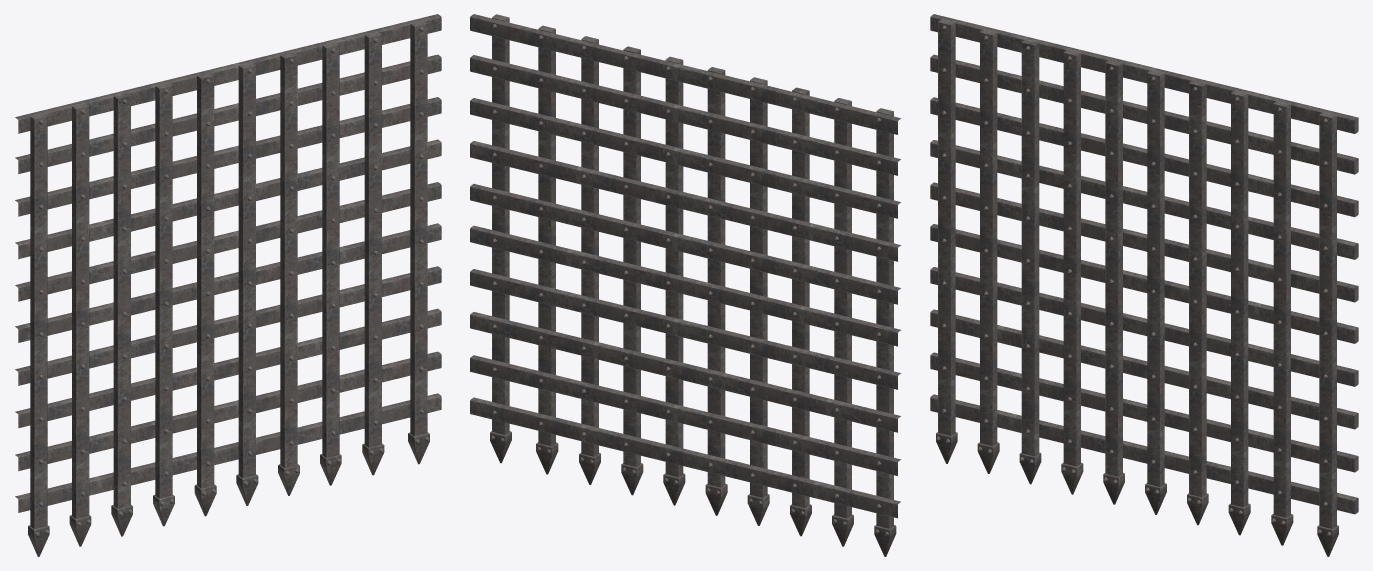
File: Door_Grate.glb
3 views of the same model, side by side, from view 1: azimuth 30°, elevation 25°; view 2: azimuth 150°, elevation 25°; view 3: azimuth 330°, elevation 25° (orthographic).
Parts seen in each view (by area): view 1: Object_4; view 2: Object_4; view 3: Object_4.
Boxes of the visible parts, left/top/right/bottom form: Object_4: left=15, top=14, right=441, bottom=556; Object_4: left=470, top=14, right=901, bottom=556; Object_4: left=930, top=14, right=1358, bottom=556.
Bounding box in the file's own units: 2.17 × 2.16 × 0.1242.
Materials: 1 (1 with a texture image).
